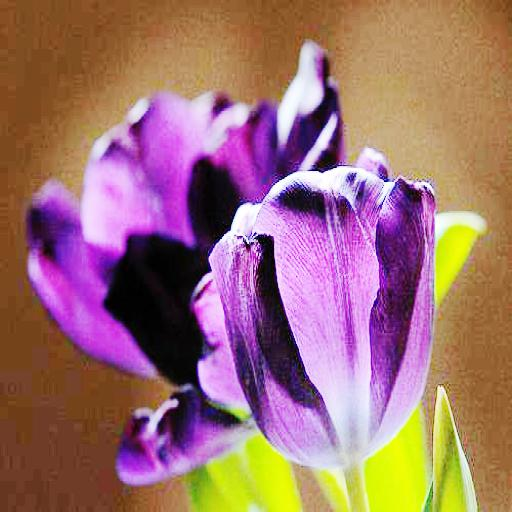tulip: (211, 146, 437, 474)
